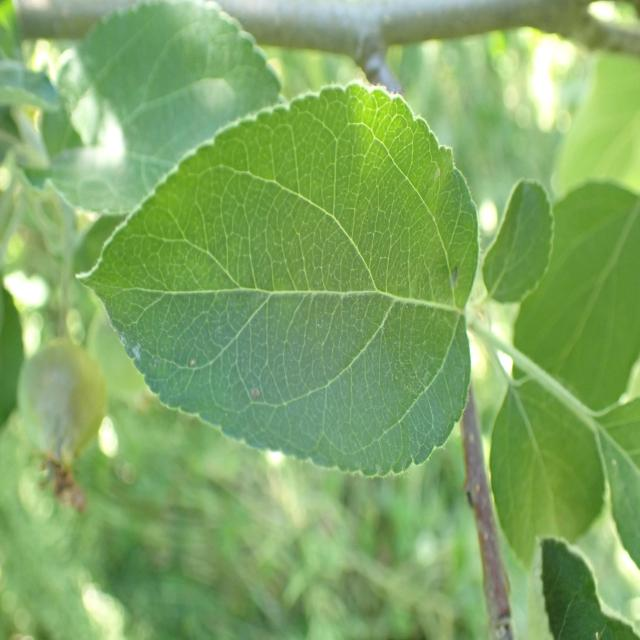healthy: (77, 80, 480, 480), (488, 177, 640, 575), (45, 1, 285, 216), (536, 536, 640, 640)
